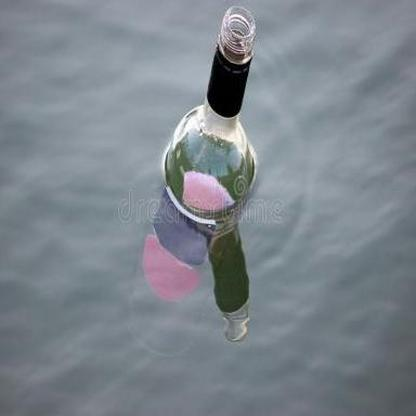plastic bottle: (165, 5, 257, 218)
